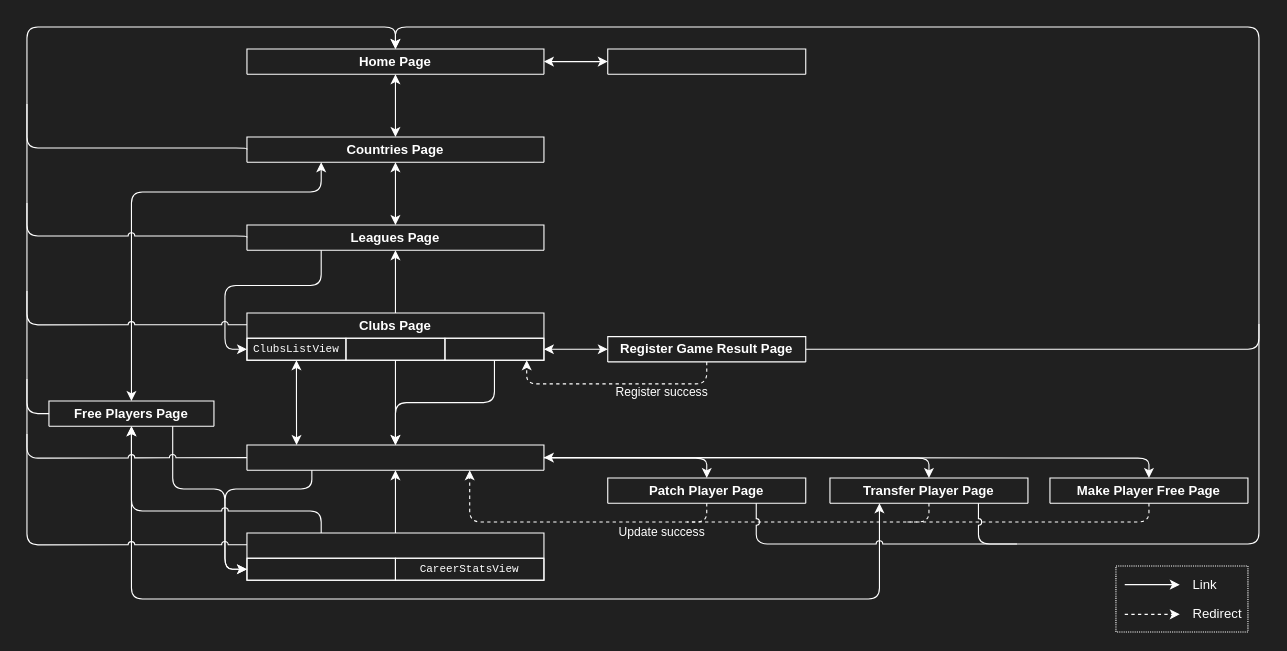
This 1287x651 diagram has some shape labels left out. The box of each missing label's shape, as (x1, y1, x2, y2) in pixels:
GameResultView: (444, 337, 544, 360)
Player Page: (246, 532, 544, 580)
Players Page: (246, 444, 544, 470)
Register Season Page: (607, 48, 806, 74)
SeasonStatsView: (246, 557, 395, 580)
StandingView: (345, 337, 445, 360)
